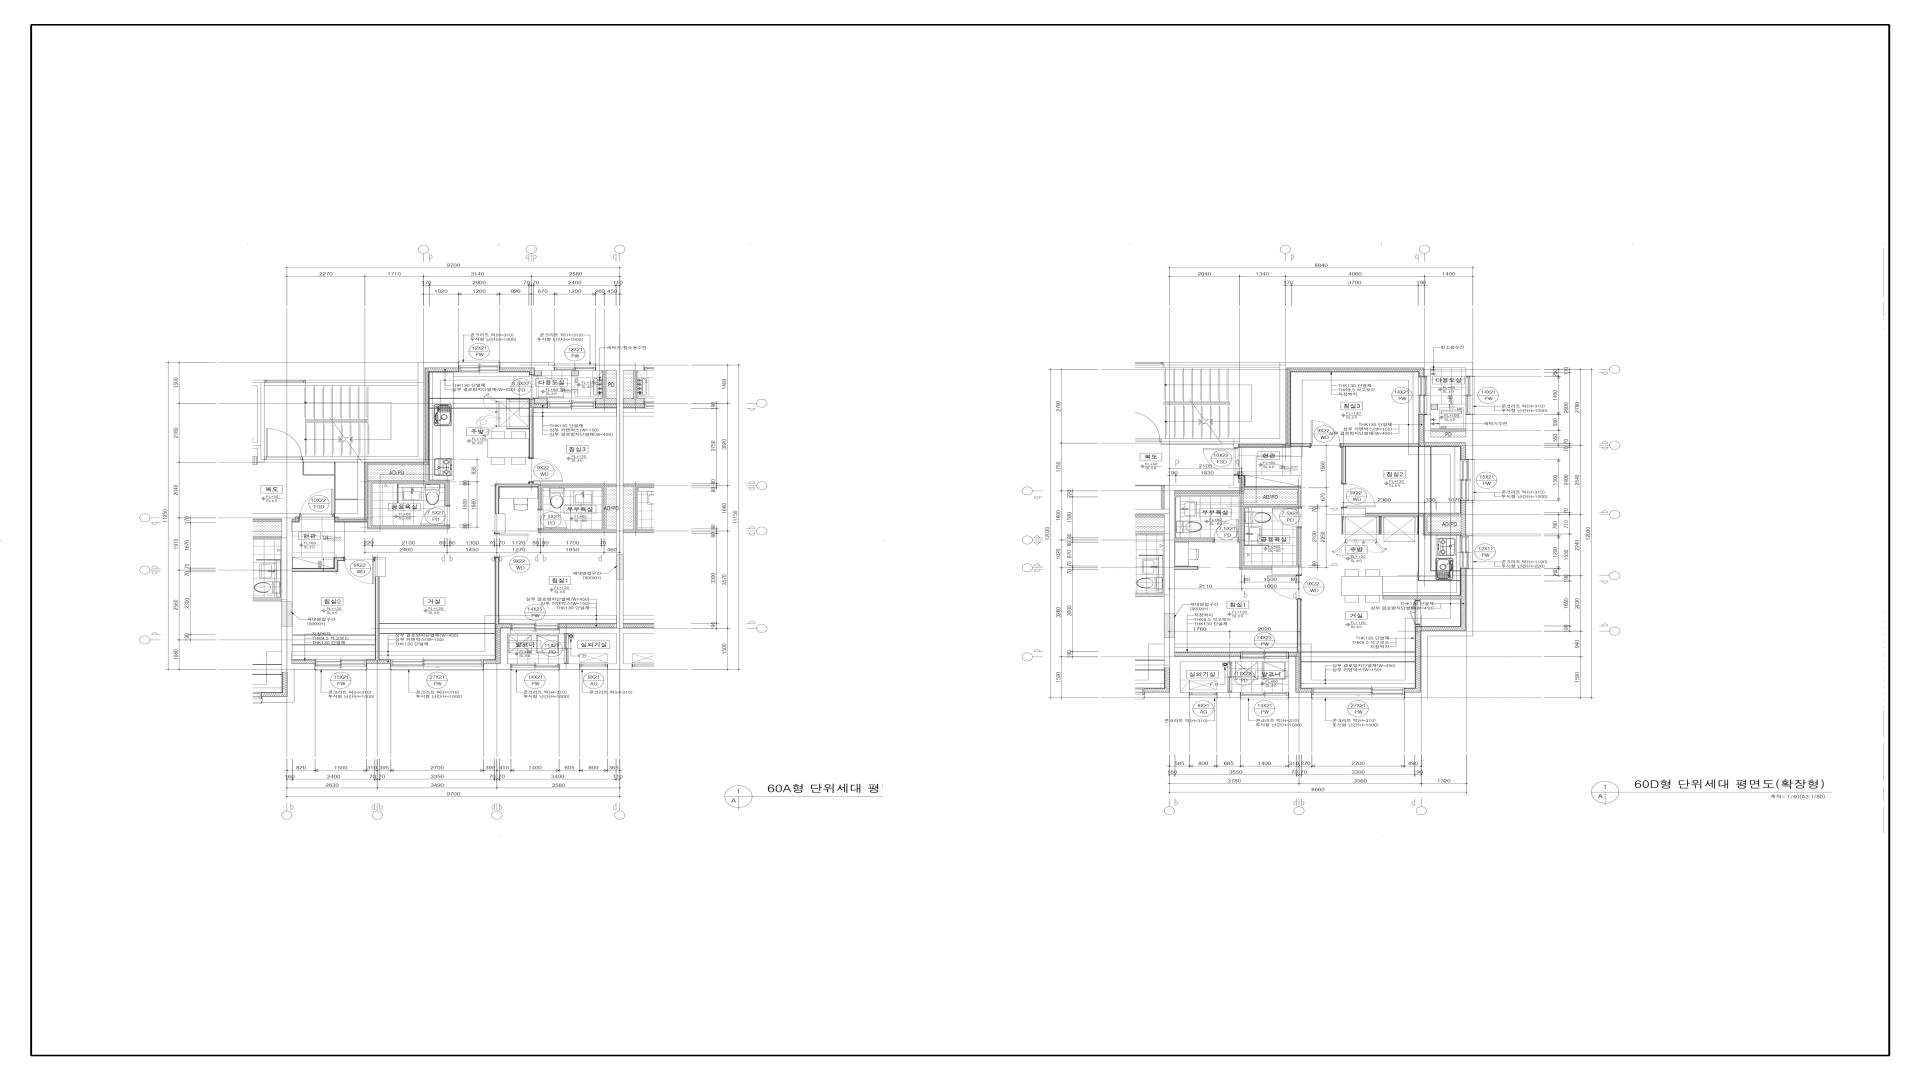door: (265, 429, 303, 463), (1203, 447, 1238, 476), (299, 488, 335, 517), (1267, 575, 1302, 600), (495, 533, 529, 558), (530, 458, 563, 483), (1341, 484, 1375, 508), (1311, 421, 1341, 447), (344, 558, 375, 584), (1213, 518, 1240, 542), (538, 509, 567, 530), (1273, 508, 1300, 529), (421, 505, 448, 526), (1410, 599, 1420, 625), (1228, 662, 1232, 692), (564, 633, 568, 663)
wall: (303, 363, 459, 463), (1404, 568, 1473, 698), (596, 365, 624, 634), (253, 513, 299, 626), (1234, 368, 1287, 448), (368, 480, 450, 529), (538, 484, 616, 530), (1164, 596, 1189, 698), (1286, 363, 1473, 376), (1240, 508, 1273, 568), (1175, 493, 1298, 508), (335, 463, 364, 520), (282, 626, 315, 670), (496, 484, 539, 514), (1245, 487, 1300, 508), (1164, 491, 1175, 597), (1164, 476, 1241, 491), (252, 380, 265, 463), (425, 464, 448, 505), (1424, 516, 1466, 535), (291, 558, 344, 571), (596, 371, 616, 404), (1163, 363, 1286, 368), (306, 380, 418, 385), (608, 633, 624, 670), (500, 363, 554, 371), (500, 628, 510, 663), (1175, 657, 1241, 662), (559, 628, 617, 633), (1466, 414, 1473, 460), (1160, 439, 1234, 443), (1341, 508, 1366, 517), (1273, 567, 1302, 575), (376, 576, 378, 661), (1341, 444, 1419, 447), (1383, 596, 1461, 599), (539, 530, 616, 533), (375, 558, 385, 576), (495, 514, 505, 533), (483, 663, 510, 670), (496, 558, 498, 624), (1366, 513, 1423, 516), (1298, 600, 1300, 653), (559, 663, 580, 670), (1466, 514, 1473, 535), (530, 407, 533, 458), (367, 665, 390, 670), (1217, 692, 1241, 698), (1288, 692, 1312, 698), (1298, 527, 1300, 567), (1175, 539, 1213, 542), (1342, 447, 1345, 484), (1424, 513, 1461, 516), (1431, 429, 1466, 431), (1175, 566, 1199, 570), (1466, 501, 1473, 514), (534, 398, 547, 404), (534, 371, 542, 375), (1291, 444, 1311, 446), (530, 483, 533, 484)
window: (390, 659, 484, 671), (1312, 687, 1404, 699), (1460, 459, 1474, 501), (315, 659, 367, 670), (459, 360, 500, 373), (510, 663, 559, 671), (1241, 651, 1288, 659), (1418, 376, 1427, 414), (547, 402, 596, 409), (510, 624, 559, 630), (1240, 692, 1288, 699), (1460, 535, 1469, 570), (1466, 376, 1474, 414), (554, 364, 596, 371), (580, 663, 608, 667), (265, 380, 306, 382), (1189, 692, 1217, 695)
